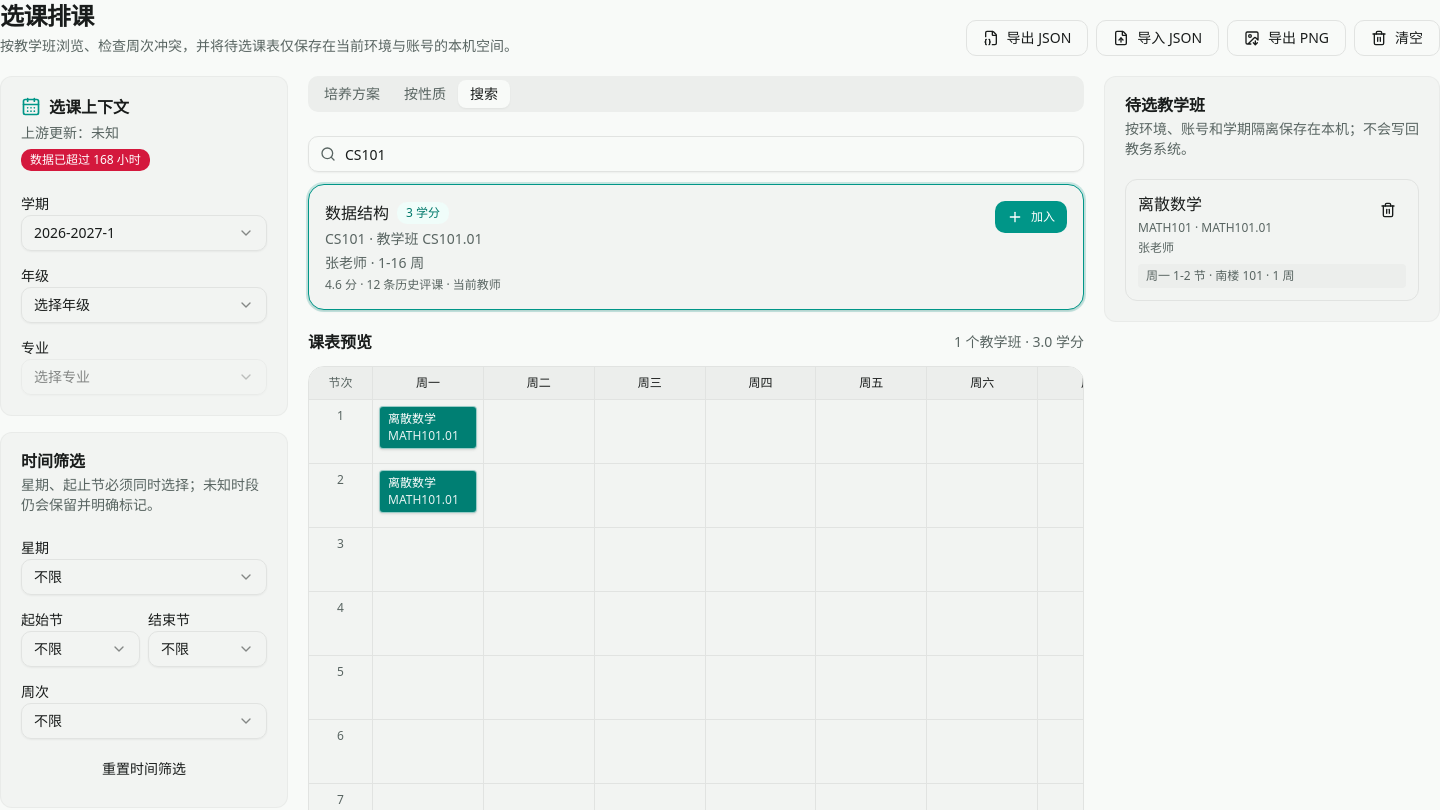
SchedulePage › never offers an override for a confirmed conflict
Step 1. Click the button with aria-label "加入数据结构教学班CS101.01" → [1031, 217], box [995,201,1067,233]
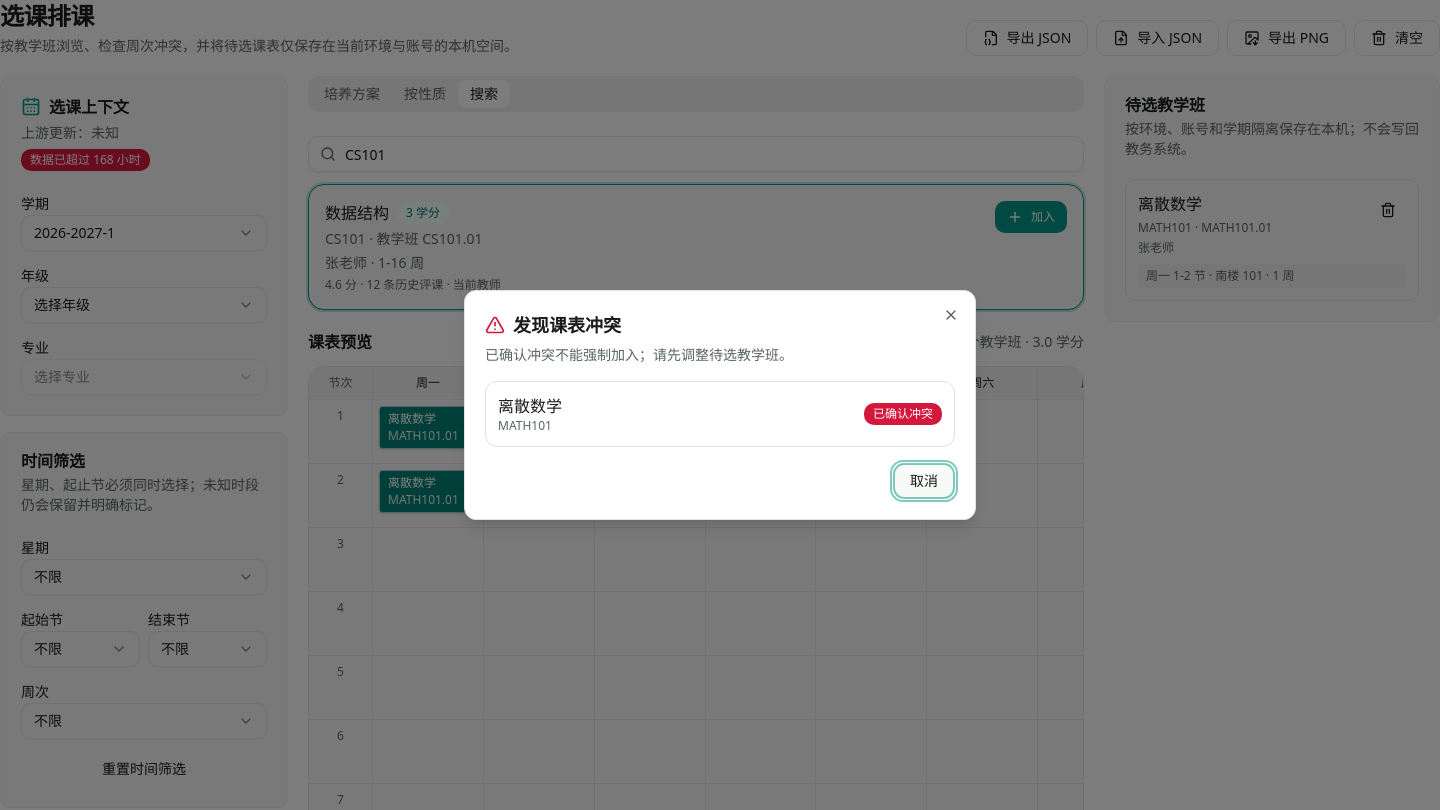
Now the heading "发现课表冲突" is shown, box [485,313,621,337]
Now the text "已确认冲突" is shown, box [864,403,942,425]
